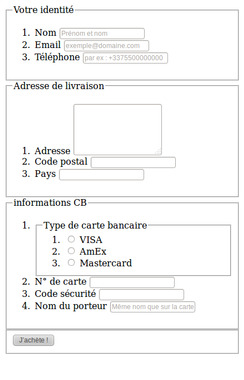_form_: (1, 1, 244, 380)
button: (13, 334, 53, 346)
field: (70, 103, 163, 156), (57, 168, 145, 182), (96, 288, 184, 302), (87, 156, 178, 169), (106, 300, 197, 313), (61, 39, 151, 52), (86, 276, 176, 289), (57, 27, 146, 40), (80, 52, 168, 64)
field_with_label: (34, 101, 165, 157), (35, 299, 198, 314), (34, 287, 186, 303), (32, 155, 180, 171), (34, 274, 177, 290), (36, 51, 171, 65), (35, 25, 147, 41), (34, 167, 146, 183), (35, 38, 152, 53)
radio: (66, 257, 75, 268), (67, 245, 75, 257), (67, 234, 75, 245)
radio_with_label: (64, 256, 132, 269), (64, 245, 108, 258), (65, 233, 103, 246)
